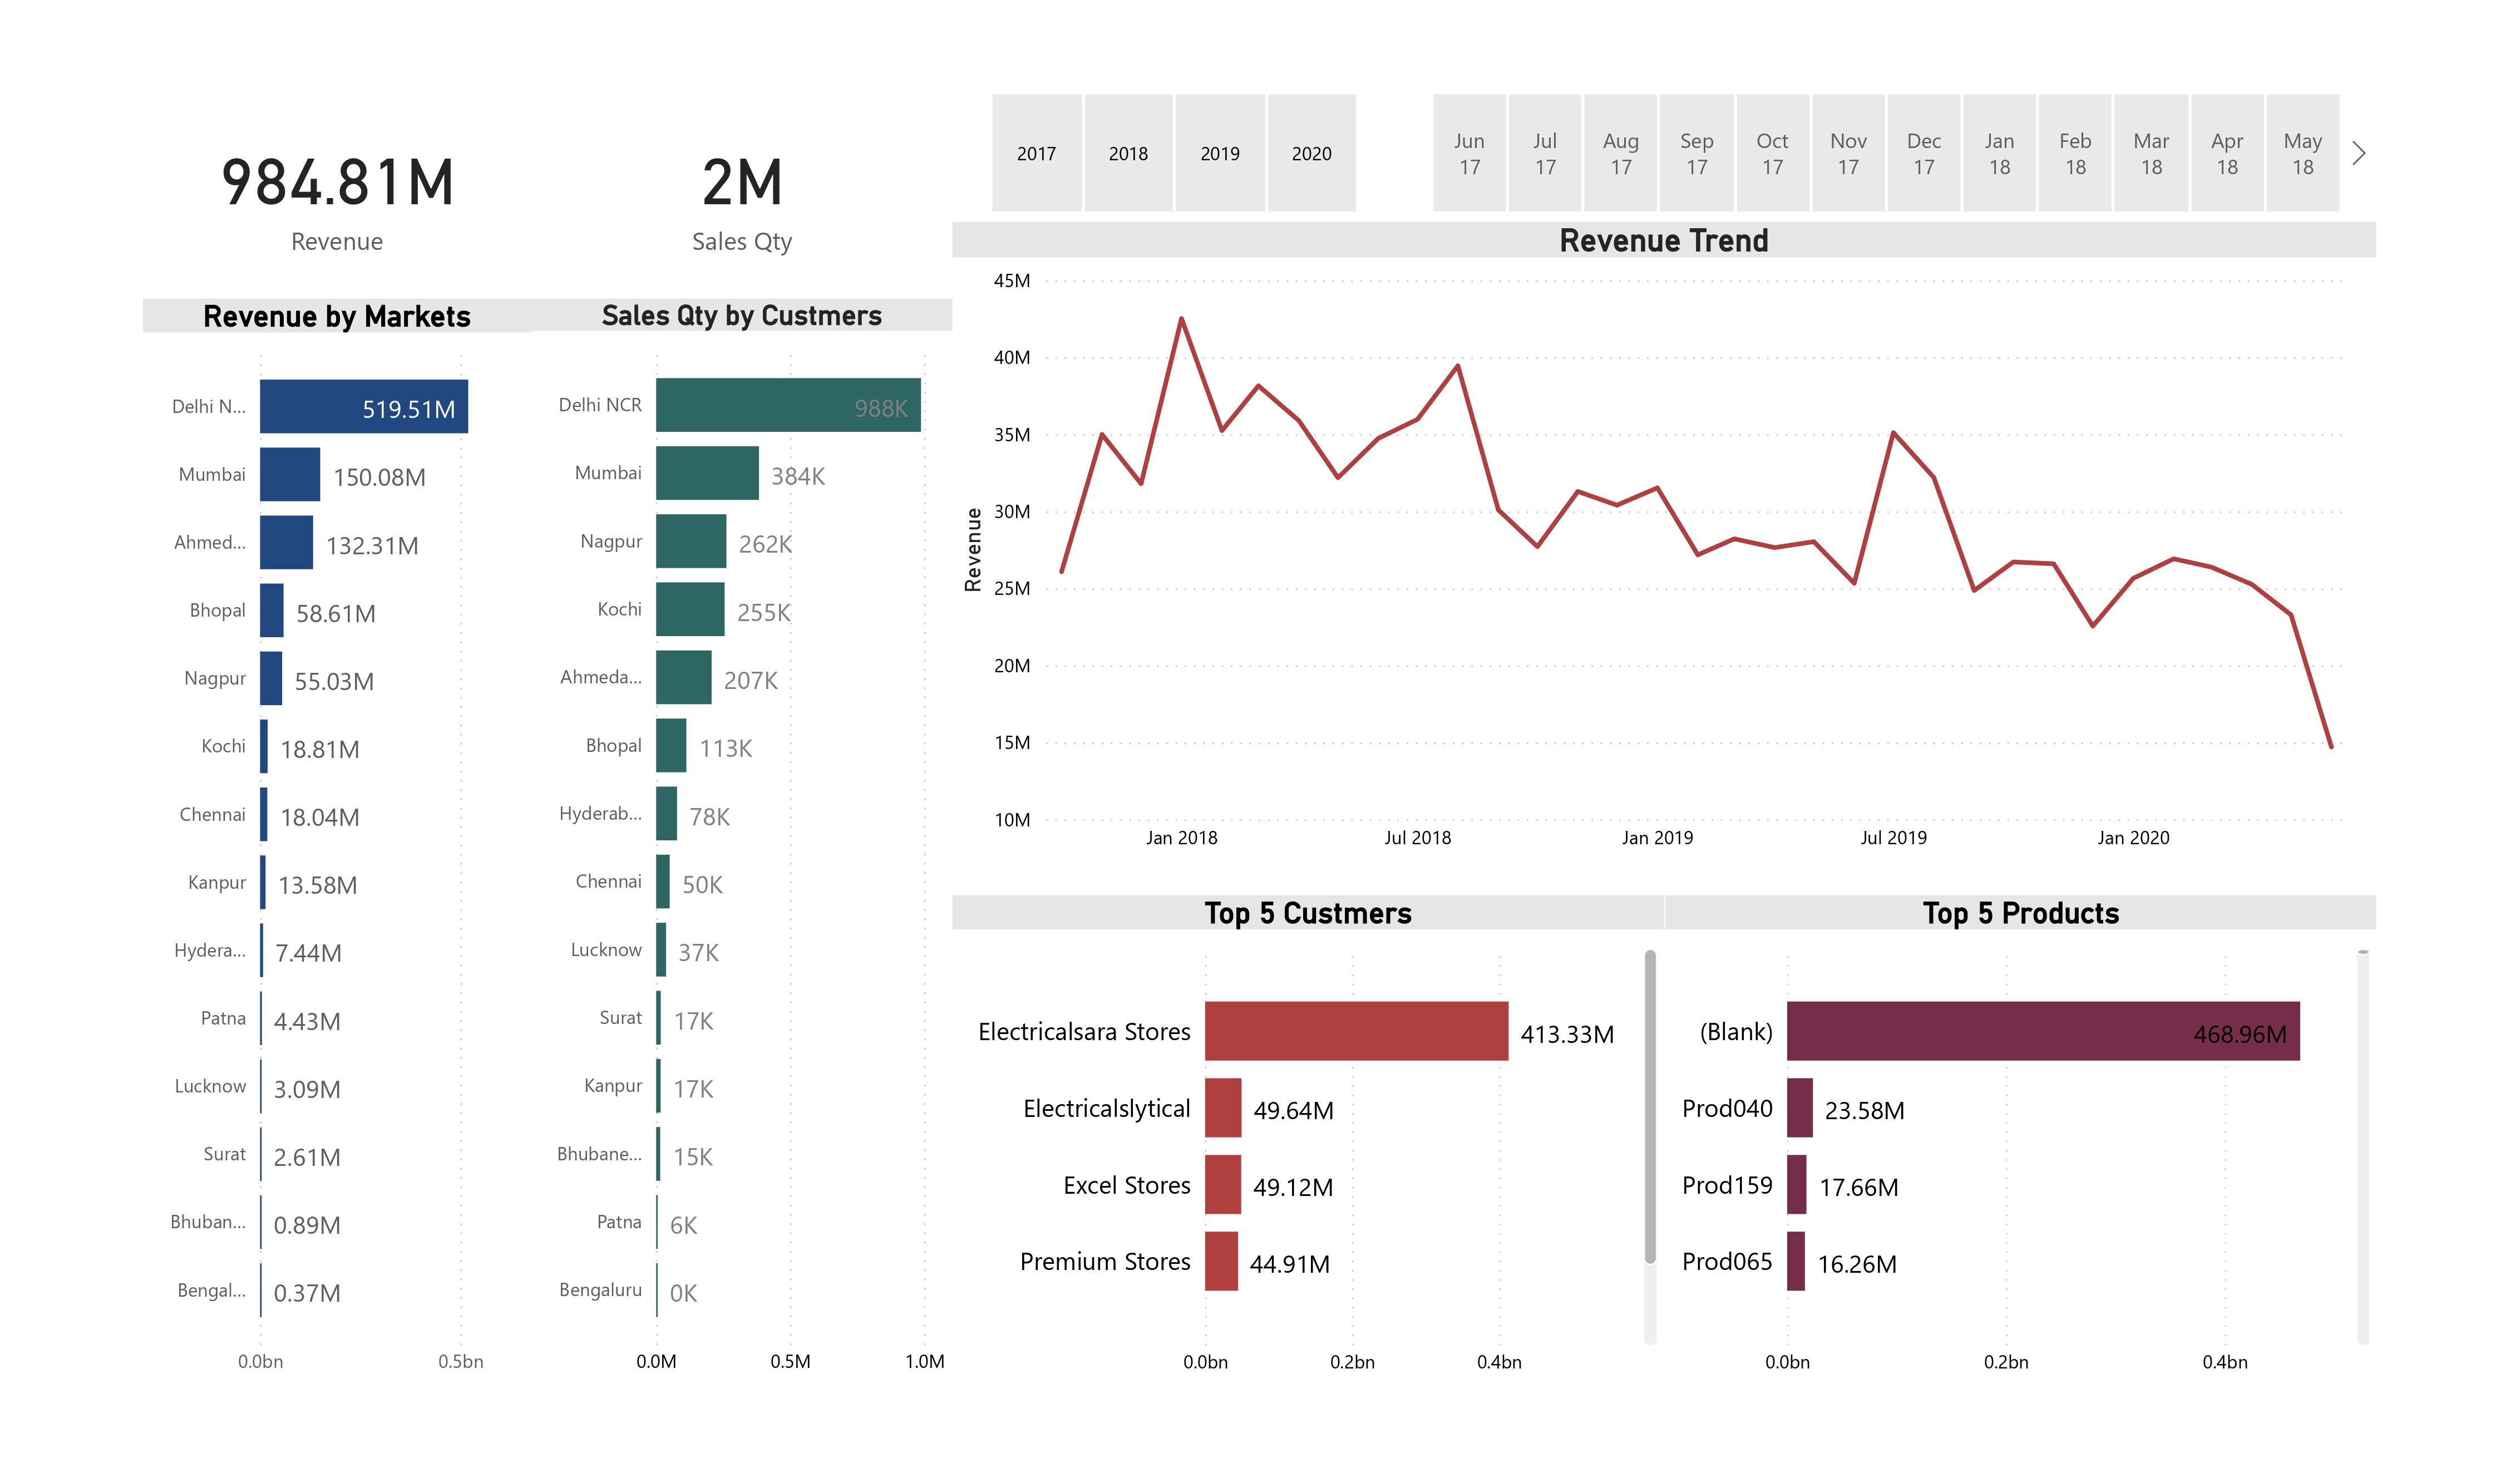

What the dashboard file says about the page in this screenshot:
{"tool":"powerbi","page":{"name":"Page 1","canvas":[1450,850],"ordinal":0},"visuals":[{"type":"card","fields":{"Values":["BaseMeasures.Revenue"]},"box":[0,0,252,140],"z":0},{"type":"card","fields":{"Values":["BaseMeasures.Sales Qty"]},"box":[252,0,273.8,140],"z":1000},{"type":"barChart","title":"Revenue by Markets","fields":{"Y":["BaseMeasures.Revenue"],"Category":["sales markets.markets_name"]},"box":[0,140,252,709.4],"z":2000},{"type":"barChart","title":"Sales Qty by Custmers","fields":{"Y":["BaseMeasures.Sales Qty"],"Category":["sales markets.markets_name"]},"box":[252,140,273.8,709.4],"z":3000},{"type":"slicer","fields":{"Values":["sales date.year"]},"box":[525.9,0,286.3,90.2],"z":4000},{"type":"slicer","fields":{"Values":["sales date.cy_date"]},"box":[812.1,0,637.9,90.2],"z":5000},{"type":"barChart","title":"Top 5 Custmers","fields":{"Y":["BaseMeasures.Revenue"],"Category":["sales customers.custmer_name"]},"box":[525.9,527.4,462.1,322],"z":6000},{"type":"barChart","title":"Top 5 Products","fields":{"Y":["BaseMeasures.Revenue"],"Category":["sales products.product_code"]},"box":[987.9,527.4,462.1,322],"z":7000},{"type":"lineChart","title":"Revenue Trend","fields":{"Y":["BaseMeasures.Revenue"],"Category":["sales date.cy_date"]},"box":[525.9,90.2,924.1,418.5],"z":8000}]}

Visuals, with their boxes in screenshot pixels (x1, y1, x2, y2), scaled from the page's 1450x850 canvas onto the 2520x1477 screenshot:
card - BaseMeasures.Revenue: x1=0, y1=0, x2=438, y2=243
card - BaseMeasures.Sales Qty: x1=438, y1=0, x2=914, y2=243
"Revenue by Markets" barChart: x1=0, y1=243, x2=438, y2=1476
"Sales Qty by Custmers" barChart: x1=438, y1=243, x2=914, y2=1476
slicer - sales date.year: x1=914, y1=0, x2=1412, y2=157
slicer - sales date.cy_date: x1=1412, y1=0, x2=2519, y2=157
"Top 5 Custmers" barChart: x1=914, y1=917, x2=1717, y2=1476
"Top 5 Products" barChart: x1=1717, y1=917, x2=2519, y2=1476
"Revenue Trend" lineChart: x1=914, y1=157, x2=2519, y2=884
